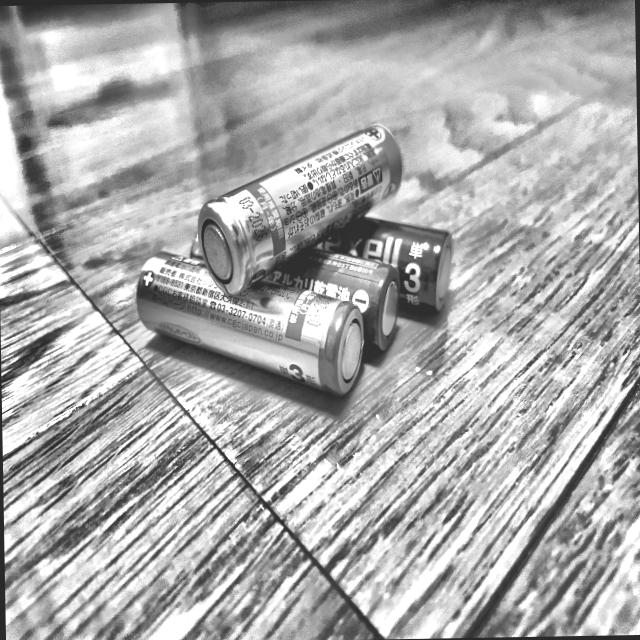drycell: (125, 244, 378, 411), (163, 222, 418, 363)
